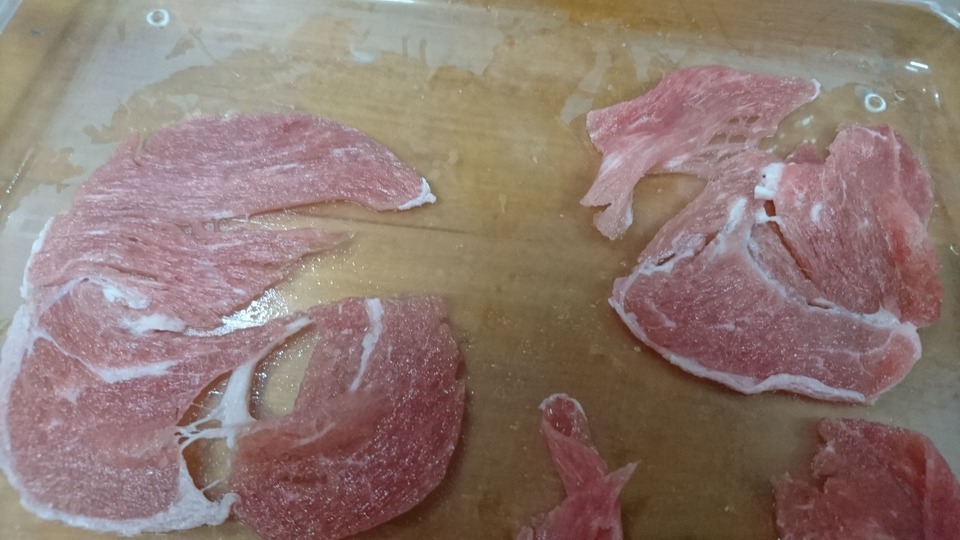restructured meat: (4, 114, 463, 532), (565, 52, 934, 404), (772, 419, 960, 537), (525, 399, 640, 540)
